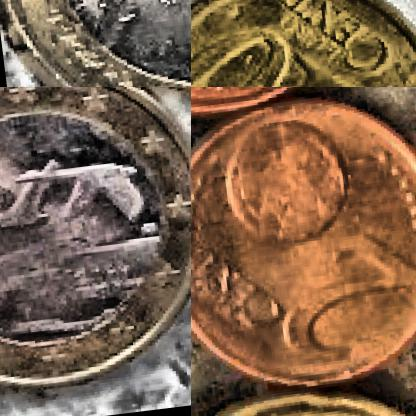coin: (191, 87, 415, 402), (0, 87, 190, 410), (191, 0, 415, 86), (0, 0, 190, 86)
